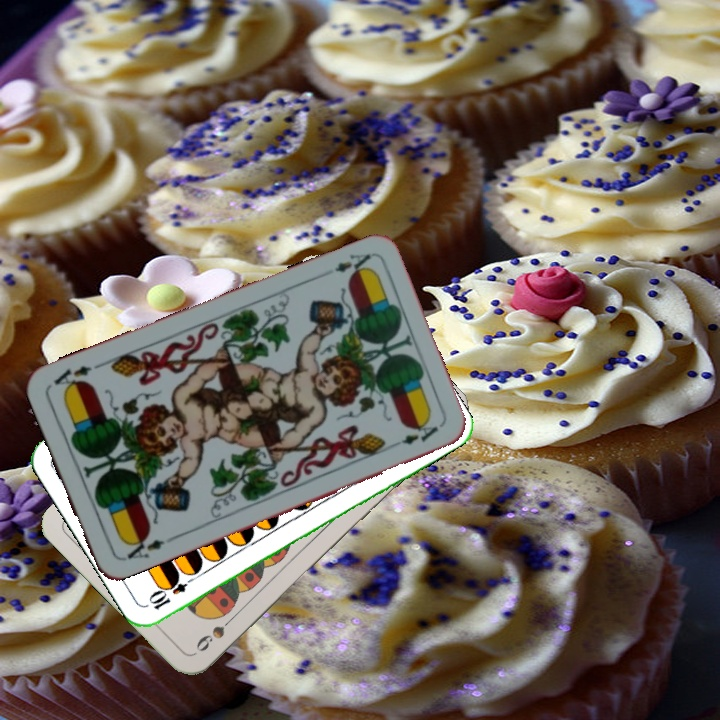E10: (145, 570, 200, 613)
EA: (118, 530, 175, 564), (330, 249, 375, 279)
S9: (191, 610, 239, 655)
